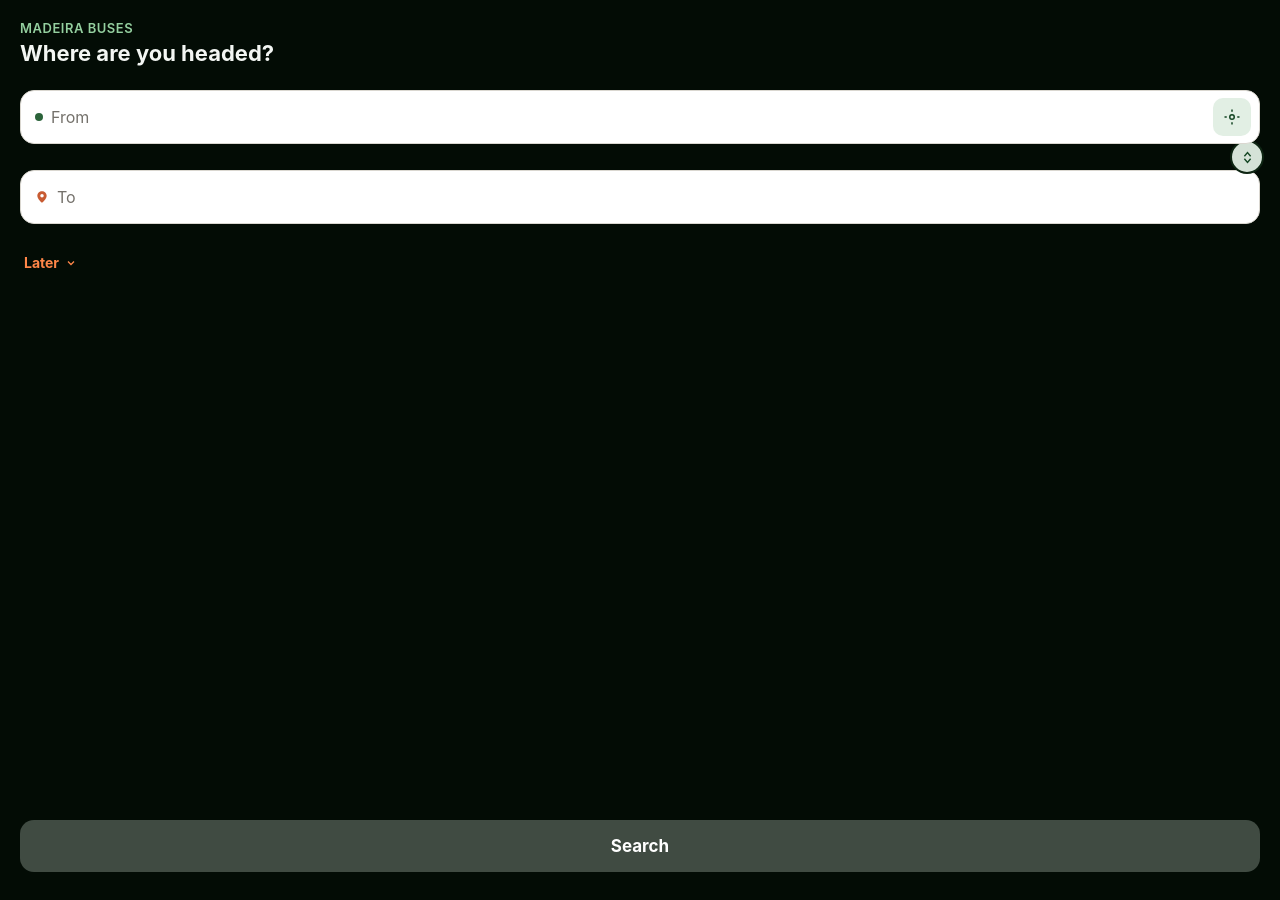
Test: SearchScreen › autocomplete matches on the town, not just the stop name
Type "Estreito" into the field labelled "From" at (628, 117), box [43, 93, 1213, 141]
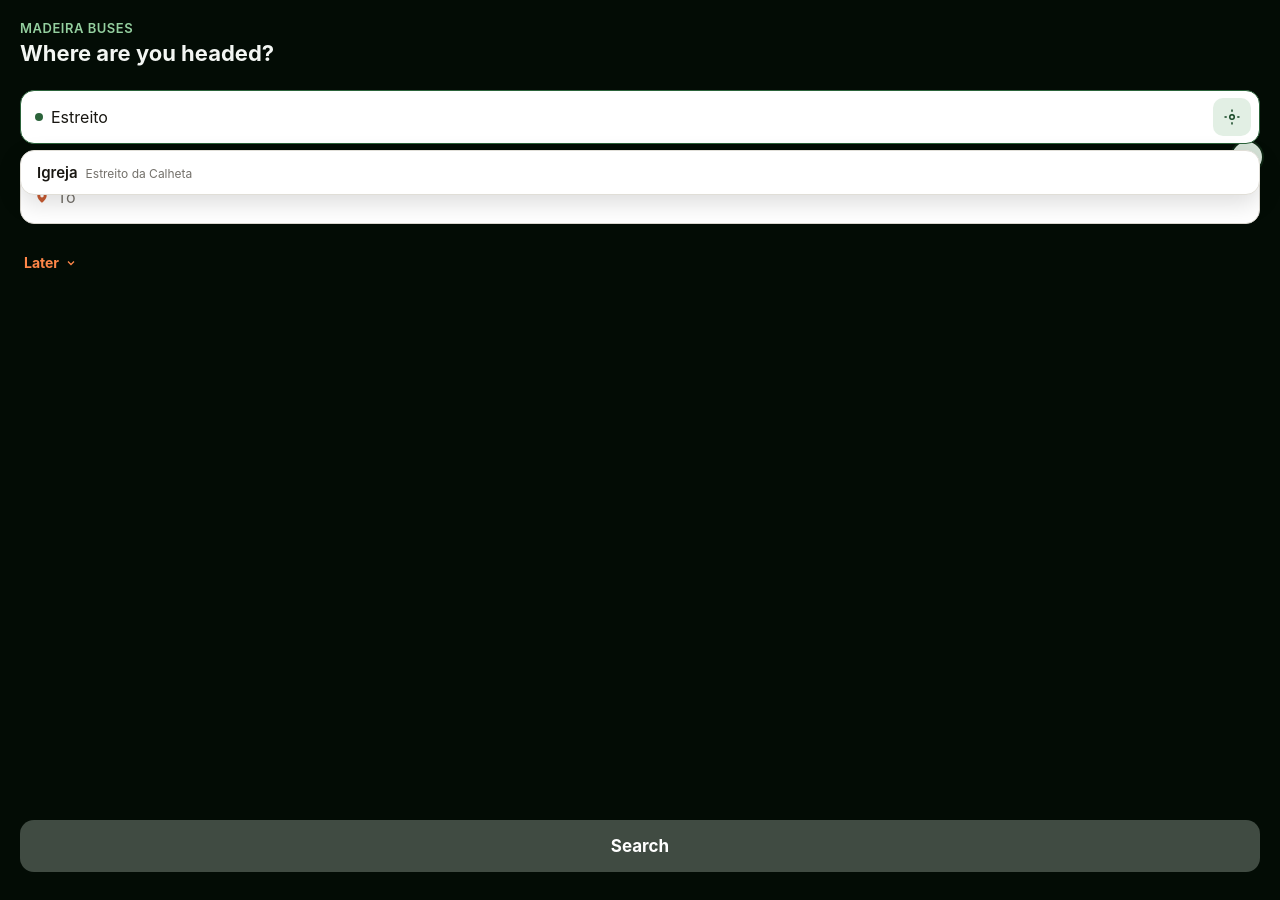
Now the text "Igreja" is shown, box [37, 163, 78, 182]
